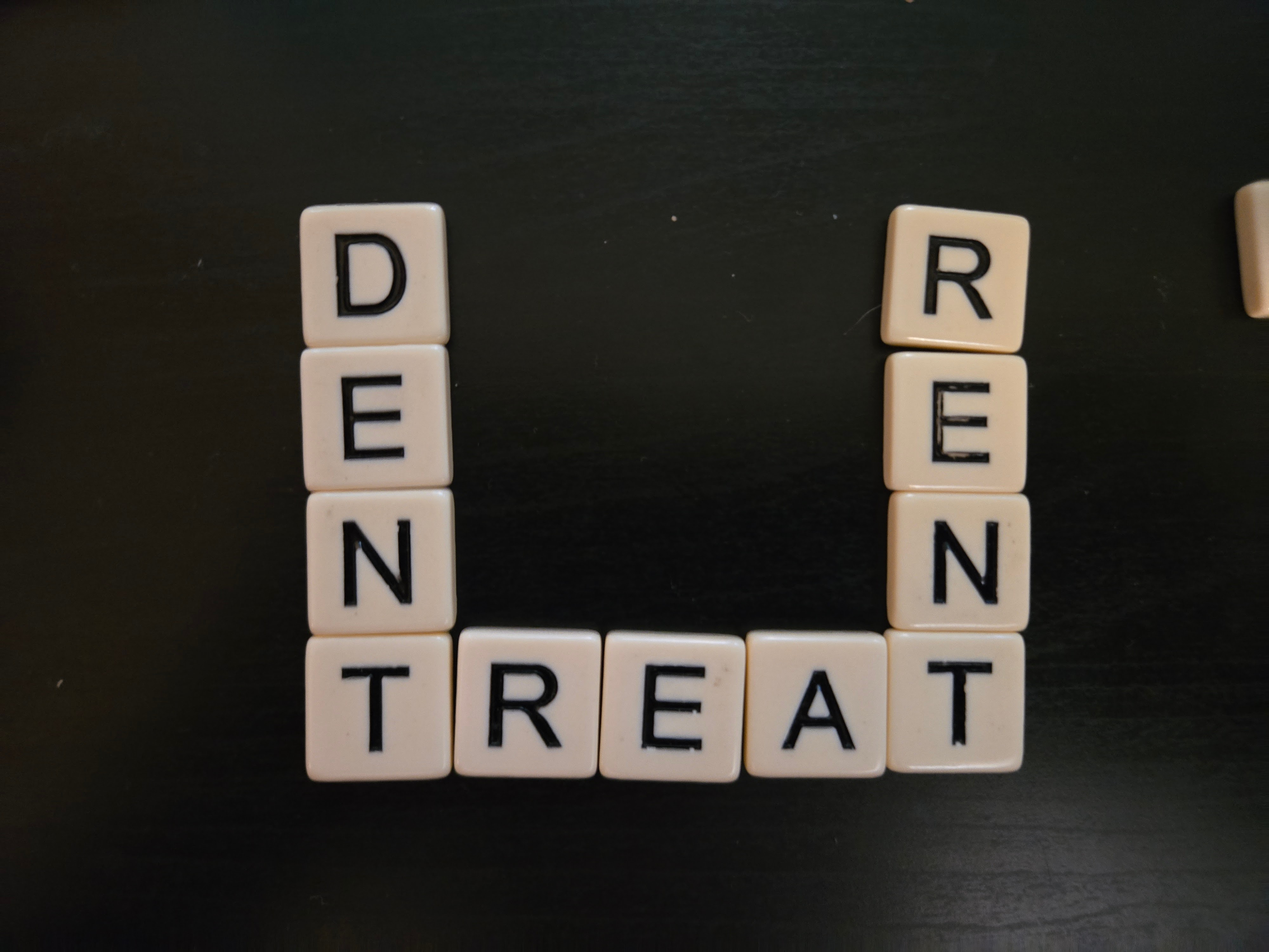Tile: (300, 345, 452, 491), (454, 628, 602, 777), (881, 204, 1029, 353), (599, 632, 746, 782), (305, 633, 452, 781), (307, 489, 456, 635), (300, 202, 449, 347), (744, 631, 887, 777), (883, 351, 1027, 493), (885, 630, 1025, 772), (888, 492, 1030, 631)
